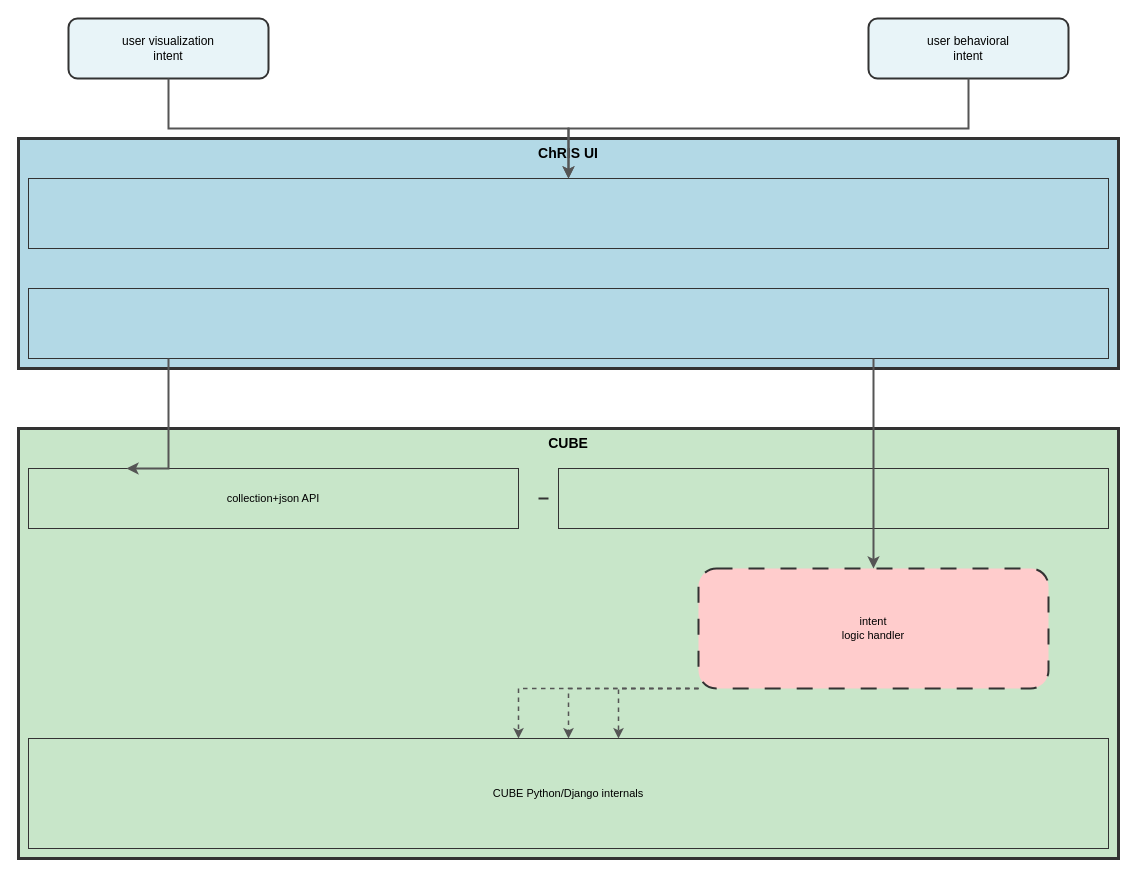
The diagram is 1137 pixels wide and 877 high, and some of its shapes have lost their labels. The box of each missing label's shape, as (x1, y1, x2, y2) in pixels:
intent API: (558, 468, 1108, 528)
js thin client library: (28, 288, 1108, 358)
React components: (28, 178, 1108, 248)
